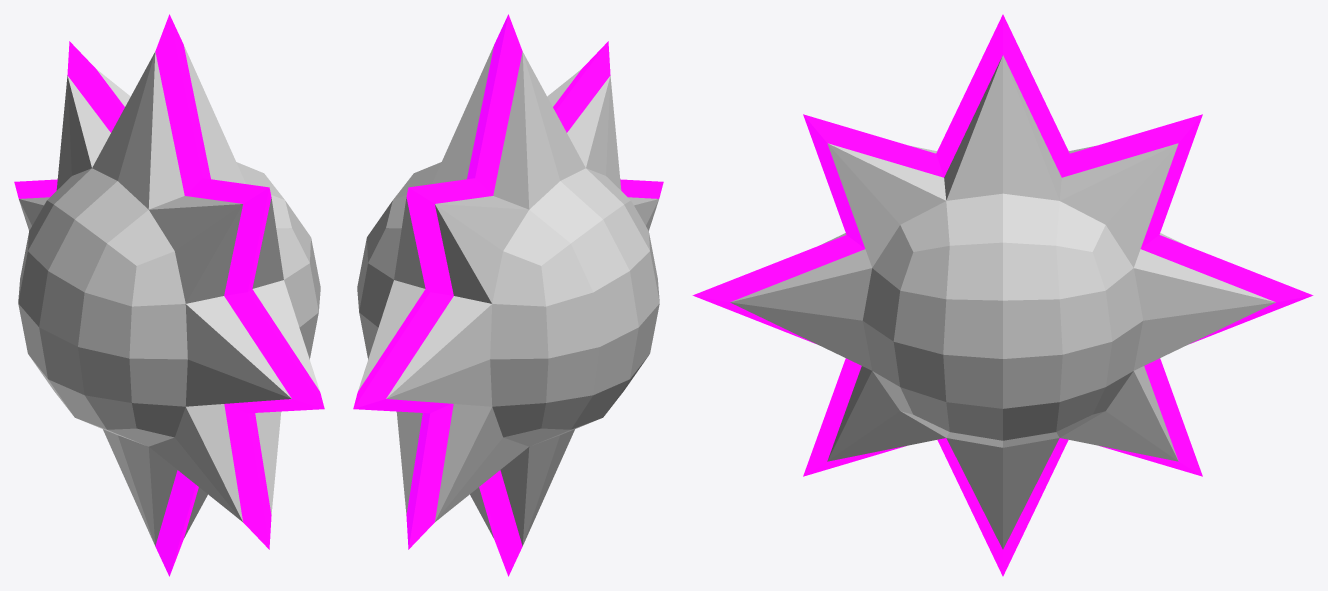
Rendered from EnemySpikes.fbx.
The picture shows the model from 3 angles, left to right: view 1: azimuth 30°, elevation 25°; view 2: azimuth 150°, elevation 25°; view 3: azimuth 270°, elevation 25°; orthographic projection.
Visible parts, largest first — view 1: Cube; view 2: Cube; view 3: Cube.
Part boxes in pixels (x1=…): Cube: x1=14, y1=14, x2=324, y2=576; Cube: x1=353, y1=14, x2=663, y2=576; Cube: x1=692, y1=14, x2=1313, y2=576.
Size of the model in its own units: 1.68 by 3.46 by 3.46.
